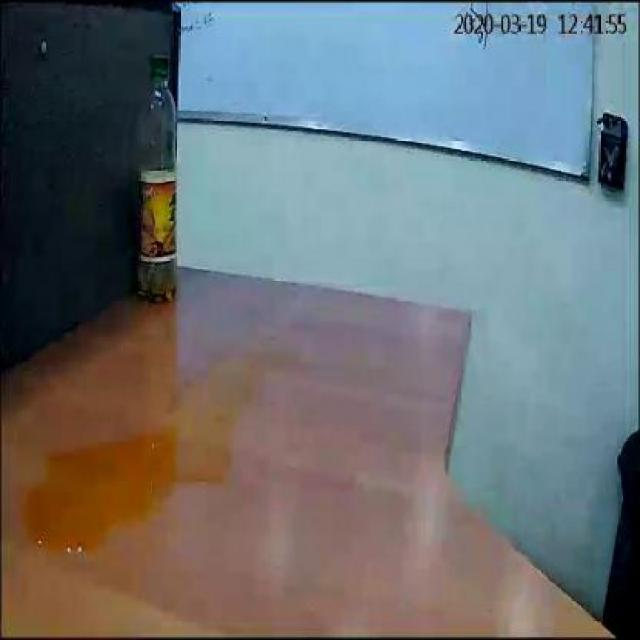spill: (15, 348, 274, 558)
